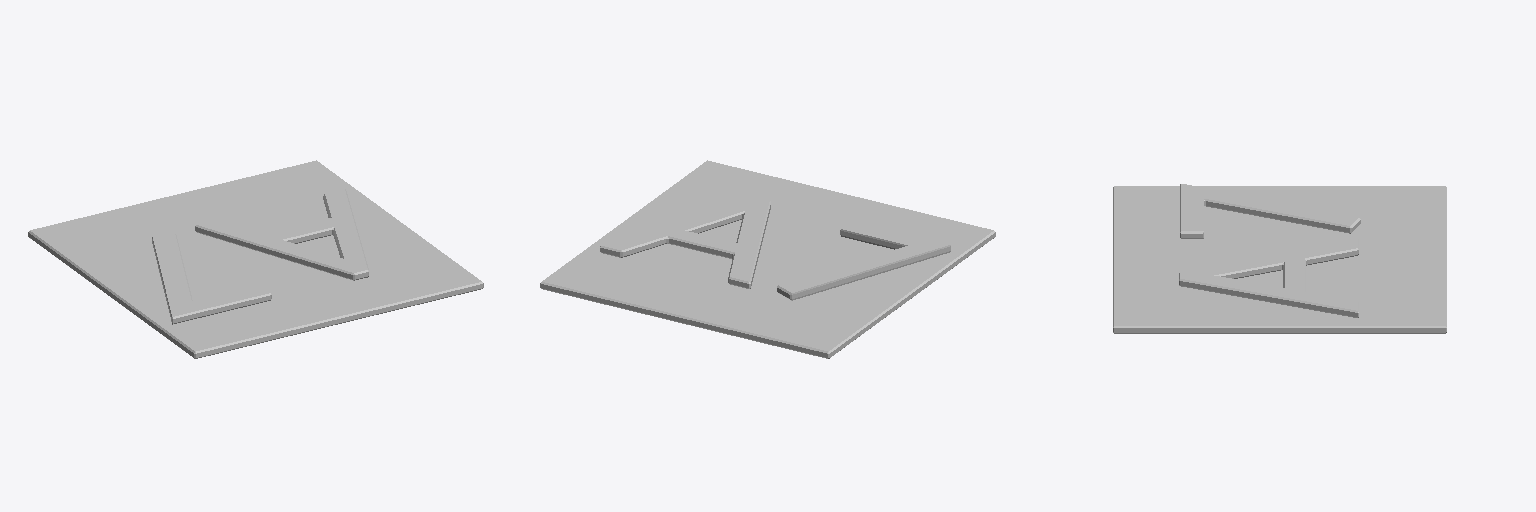
Rendered from panel_A7.obj.
The picture shows the model from 3 angles: view 1: azimuth 30°, elevation 25°; view 2: azimuth 150°, elevation 25°; view 3: azimuth 270°, elevation 25°; orthographic projection.
Visible parts, largest first — view 1: Plane, Text; view 2: Plane, Text; view 3: Plane, Text.
Part boxes in pixels (bbox=[...]): Plane: bbox=[28, 160, 483, 358]; Text: bbox=[152, 189, 368, 324]; Plane: bbox=[540, 160, 995, 358]; Text: bbox=[600, 197, 950, 300]; Plane: bbox=[1113, 186, 1446, 333]; Text: bbox=[1179, 184, 1360, 317].
Size of the model in its own units: 4 by 0.2 by 4.